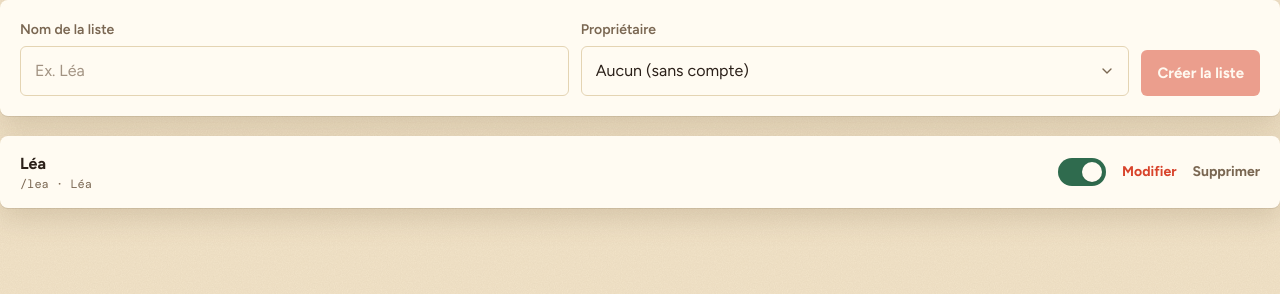
Test case: ListsPanel › shows the API message when creating a list fails
Expected: the text "Léa" is shown, [20,154,46,173]
Type "Léa" into the field labelled "Nom de la liste" at (294, 71), box [20,46,569,96]
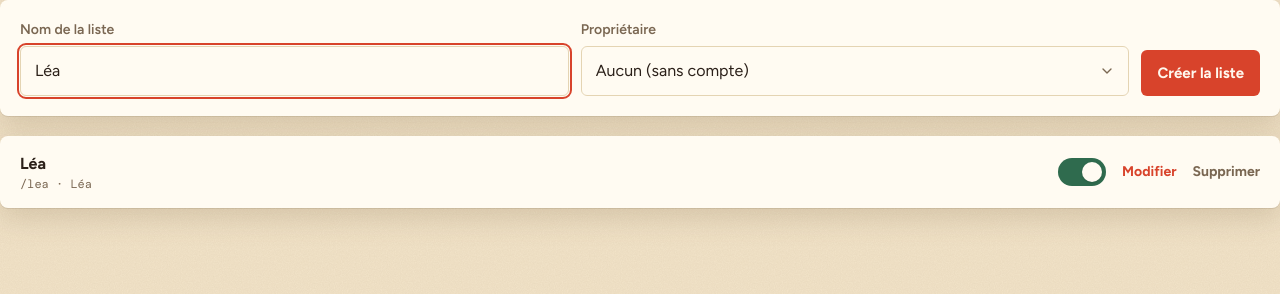
Click the button "Créer la liste" at (1201, 73), box [1141,50,1260,96]
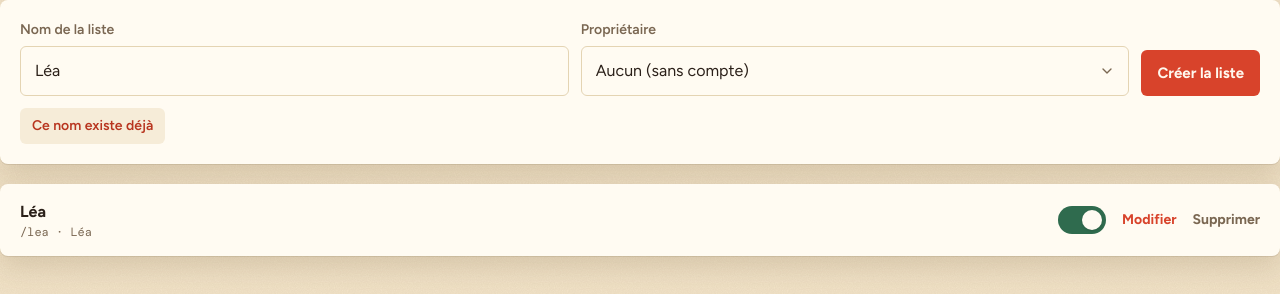
Expected: the message reads "Ce nom existe déjà", [32,117,153,134]
